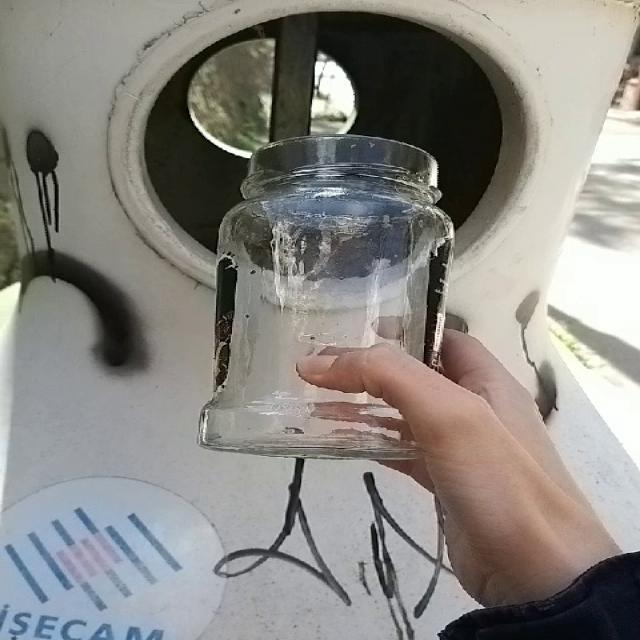Glass: (199, 137, 455, 460)
